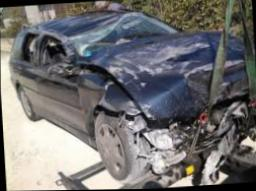Bonnet: (84, 30, 255, 118)
Bumper: (142, 91, 256, 178)
Door: (36, 38, 78, 78)
Fender: (78, 83, 137, 135)
Windshield: (67, 14, 174, 60)
